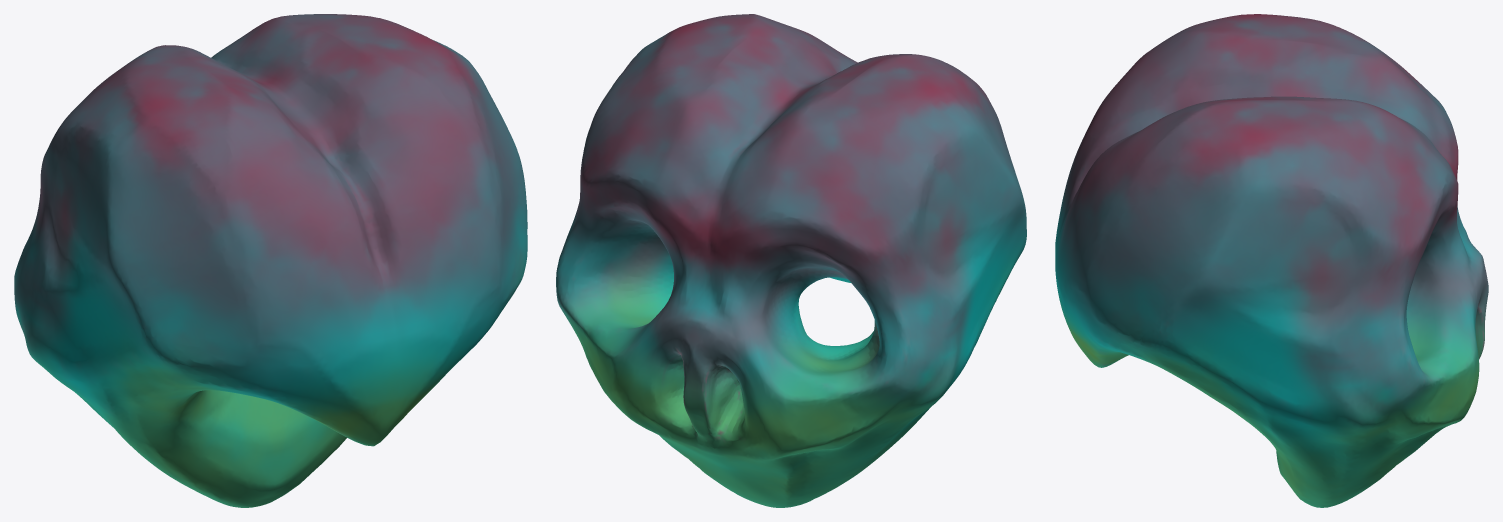
The model's file is player_heart.fbx.
3 renders of one model, left to right at view 1: azimuth 30°, elevation 25°; view 2: azimuth 150°, elevation 25°; view 3: azimuth 270°, elevation 25°, orthographic. The views are drawn at different scales.
Visible parts, largest first — view 1: player_heart; view 2: player_heart; view 3: player_heart.
Part boxes in pixels (x1,y1,x2,y2): player_heart: [14, 14, 527, 507]; player_heart: [556, 14, 1026, 507]; player_heart: [1055, 14, 1488, 507].
Bounding box in the file's own units: 542 × 582 × 527.
